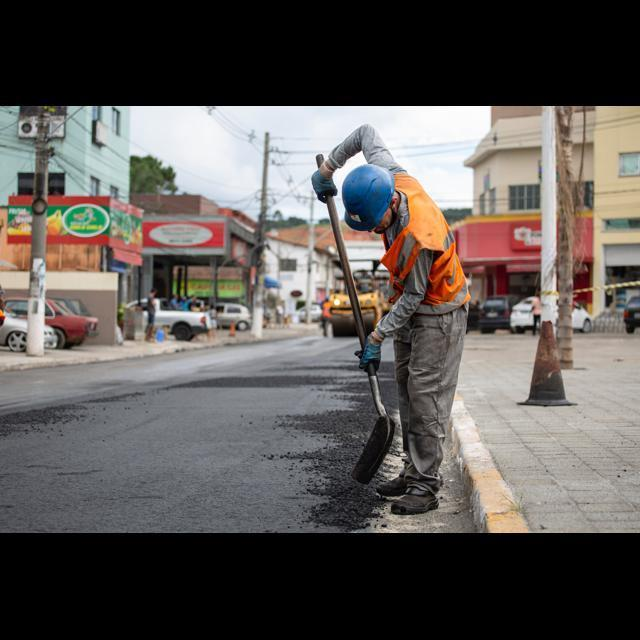Capacete: (342, 164, 394, 230)
Colete: (381, 174, 469, 306)
